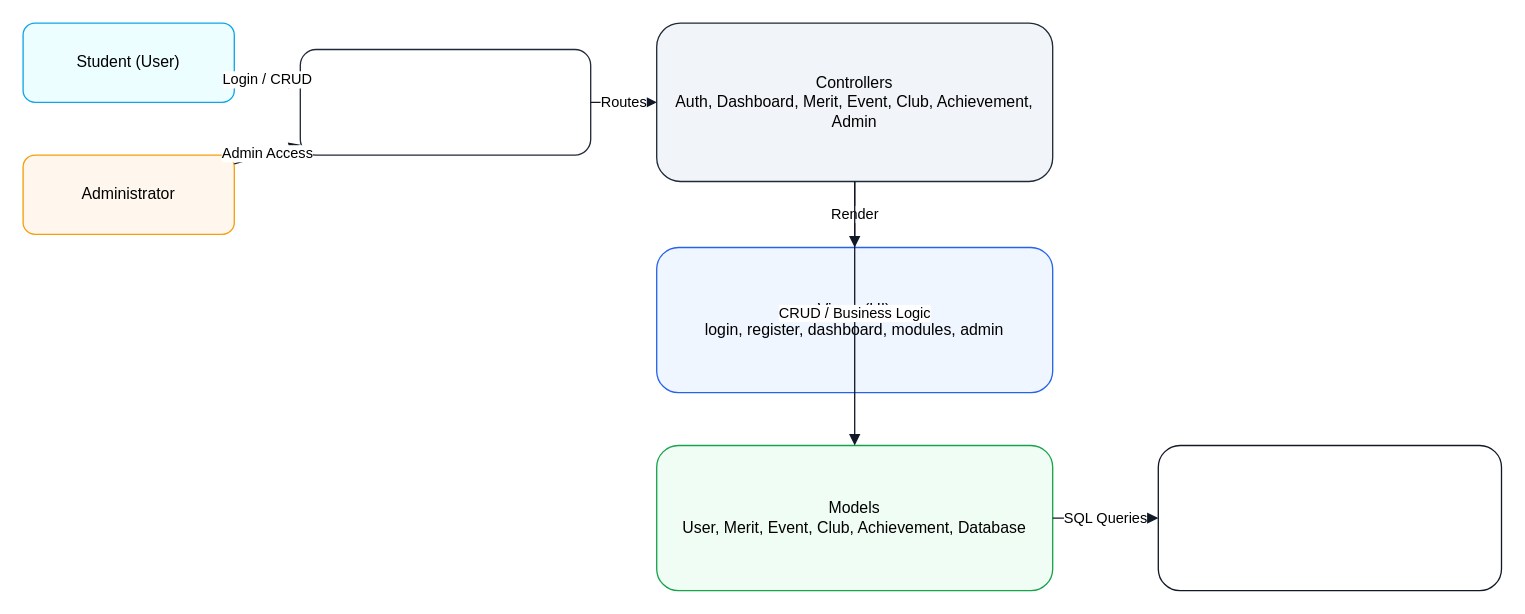
The diagram is 1525 pixels wide and 614 high, and some of its shapes have lost their labels. Here are the shapes that lost their labels. From the top down, the centre of each, then its label:
point 445,101: public/index.php Router / Entry Point
point 1329,517: MySQL Database users, merits, events, clubs, achievements
